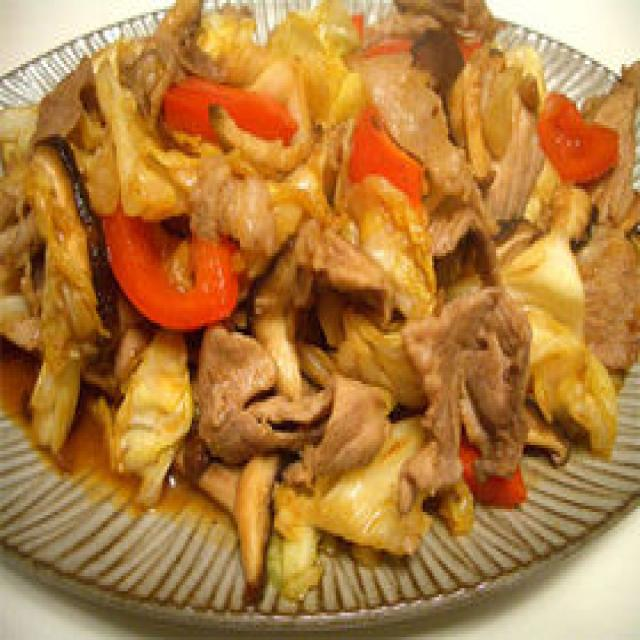蔬菜料理: (0, 0, 640, 610)
